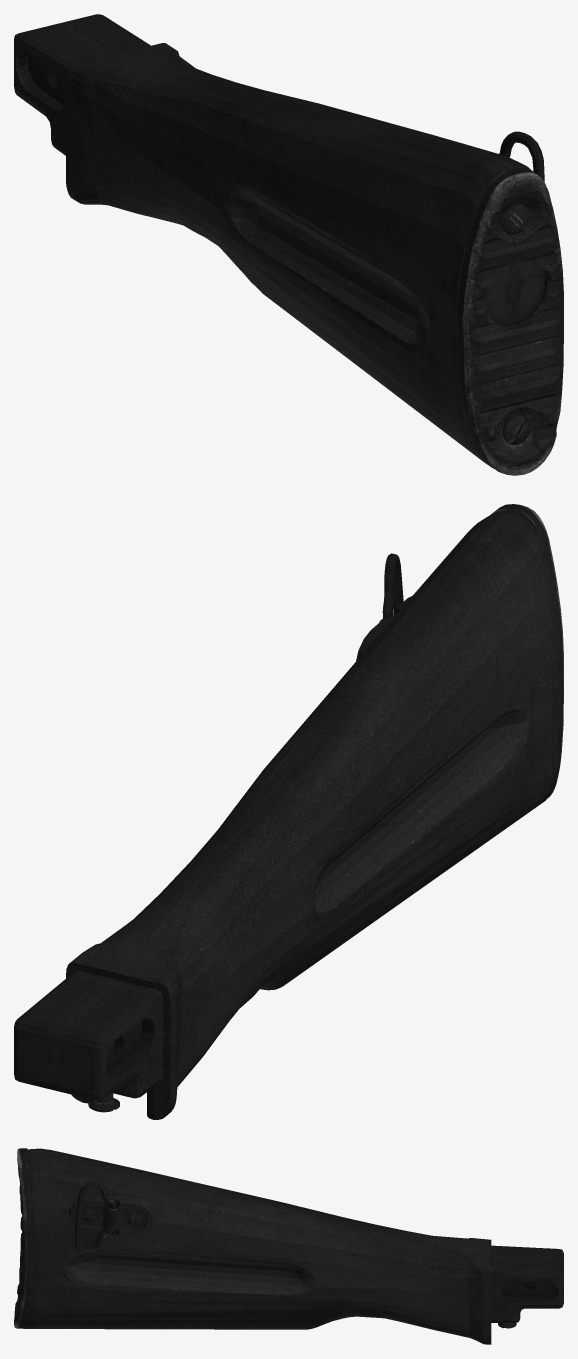
The picture shows the model from 3 angles, top to bottom: view 1: azimuth 30°, elevation 25°; view 2: azimuth 150°, elevation 25°; view 3: azimuth 270°, elevation 25°; orthographic projection. The views are drawn at different scales.
Parts seen in each view (by area): view 1: TW_5649b0fc4bdc2d17108b4588_PZ_Import; view 2: TW_5649b0fc4bdc2d17108b4588_PZ_Import; view 3: TW_5649b0fc4bdc2d17108b4588_PZ_Import.
Part boxes in pixels (box(x1,y1,x2,y2)): TW_5649b0fc4bdc2d17108b4588_PZ_Import: box(14, 14, 563, 475); TW_5649b0fc4bdc2d17108b4588_PZ_Import: box(14, 504, 563, 1119); TW_5649b0fc4bdc2d17108b4588_PZ_Import: box(14, 1148, 563, 1344).
Bounding box in the file's own units: 0.0248 × 0.1568 × 0.0578.
1 material, 1 textured.
